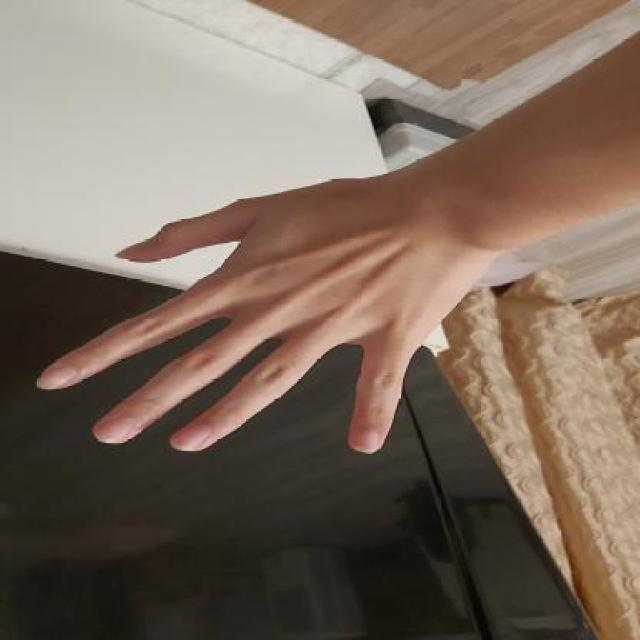bare_hand: (25, 134, 532, 460)
